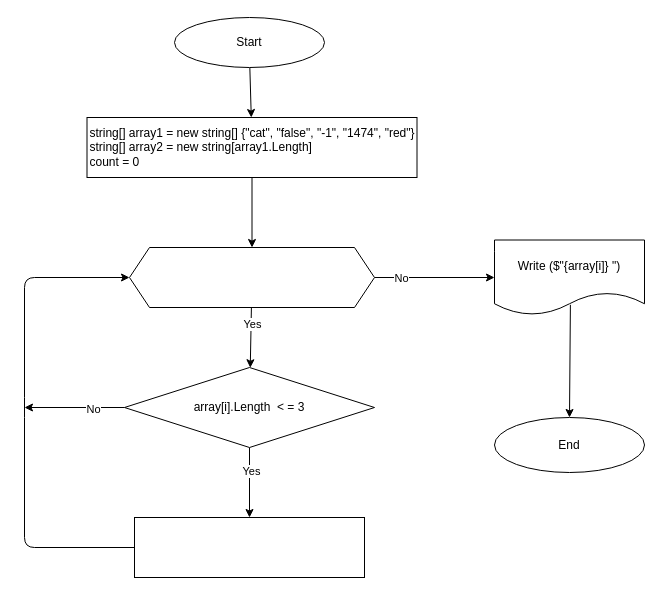
Image size: 662x595. Some labels were removed from this diagram. The shapes that lost their labels are listed below. From the top down, each one's centre as x and y in pixels, then its label:
(x=251, y=277): i = 0; i < array1.Length; i++
(x=249, y=547): array2[count] = array1[i] count ++
